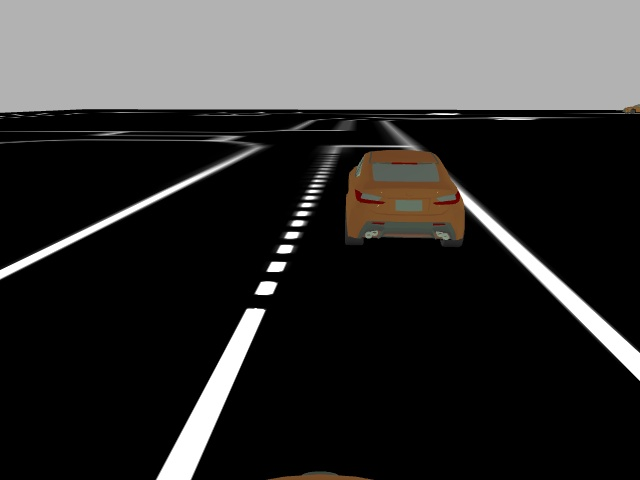obstacle_car: (341, 148, 467, 248)
